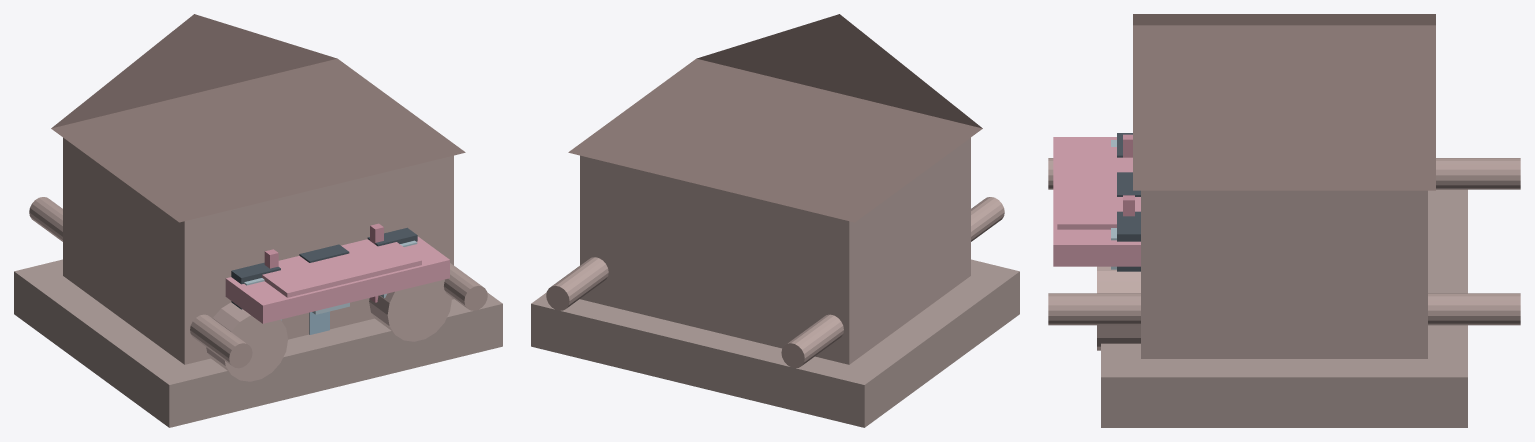
File: pet_shop.glb
The picture shows the model from 3 angles, left to right: view 1: azimuth 30°, elevation 25°; view 2: azimuth 150°, elevation 25°; view 3: azimuth 270°, elevation 25°; orthographic projection. The views are drawn at different scales.
Parts seen in each view (by area): view 1: world; view 2: world; view 3: world.
Boxes of the visible parts, x1,y1,x2,y2 form: world: (14,14,502,427); world: (531,14,1019,427); world: (1048,14,1520,427).
Bounding box in the file's own units: 1.14 × 0.9336 × 1.18.
